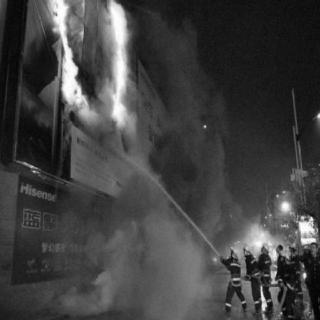Fire: (47, 0, 89, 110)
